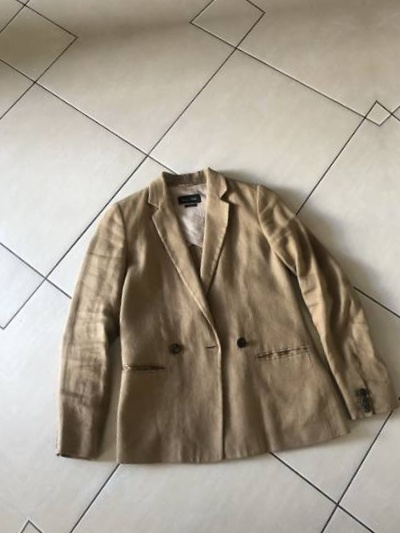Blazer: (13, 139, 400, 501), (385, 90, 400, 452)
